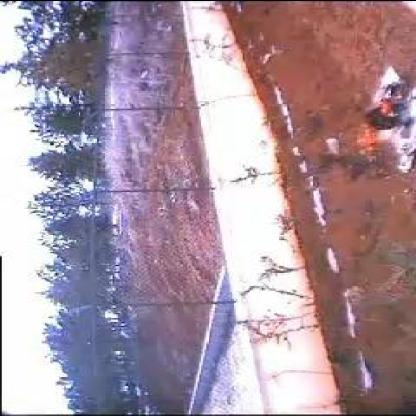foggia-v2-map80-epoch100 - v1 4323: (358, 124, 375, 148)
